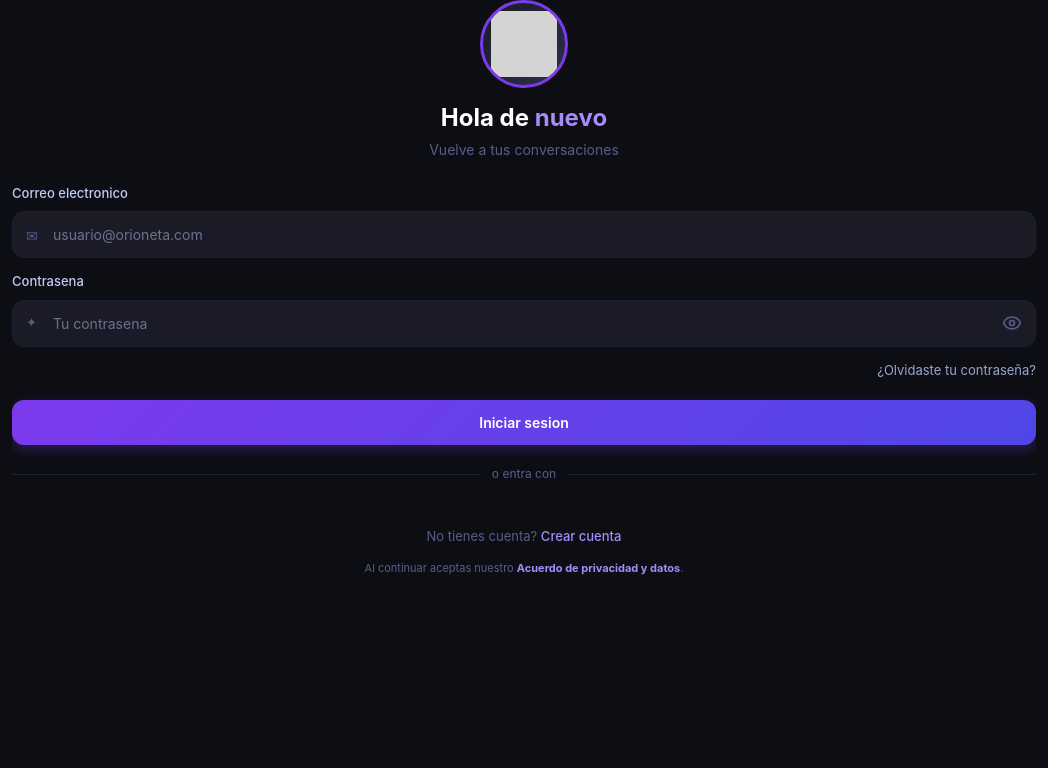
Test: LoginPage › clears errors when typing
The image size is (1048, 768).
Click the button "Iniciar sesion" at (524, 423), box [12,400,1036,445]
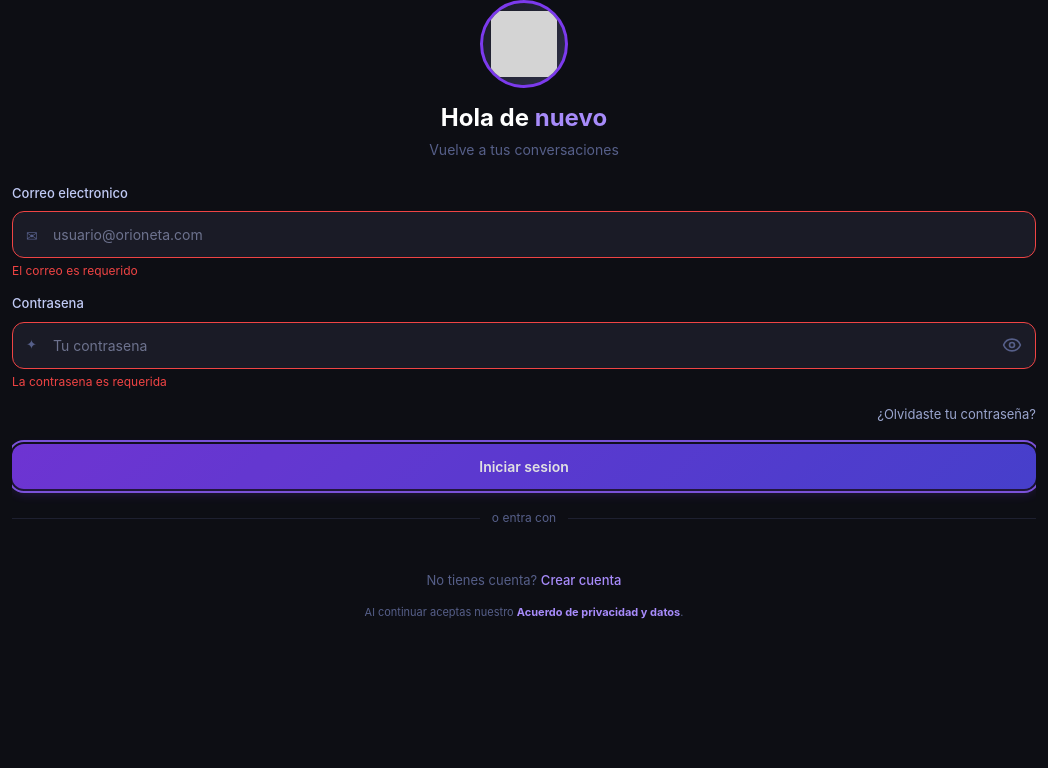
Check: the text "El correo es requerido" is shown, box [12,263,138,278]
Type "a" into the field with placeholder "usuario@orioneta.com" at (524, 235), box [12,211,1036,258]
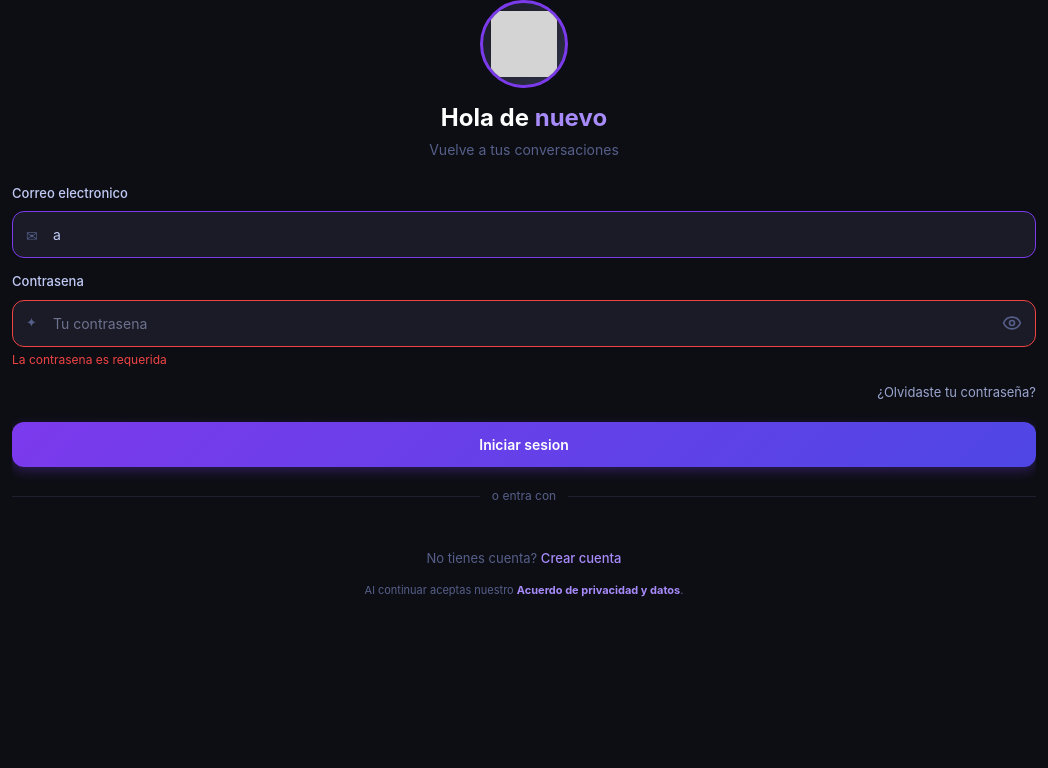
Check: the text "El correo es requerido" is gone
